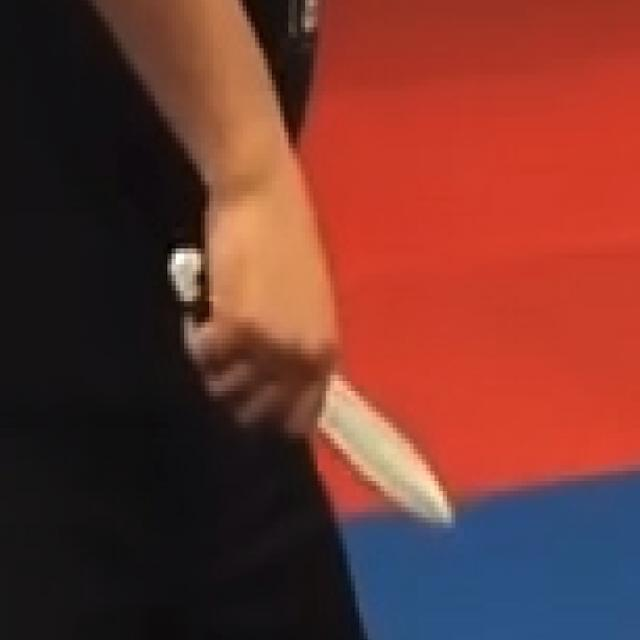suspicion: (86, 3, 466, 545), (326, 382, 459, 536), (165, 242, 206, 322)
